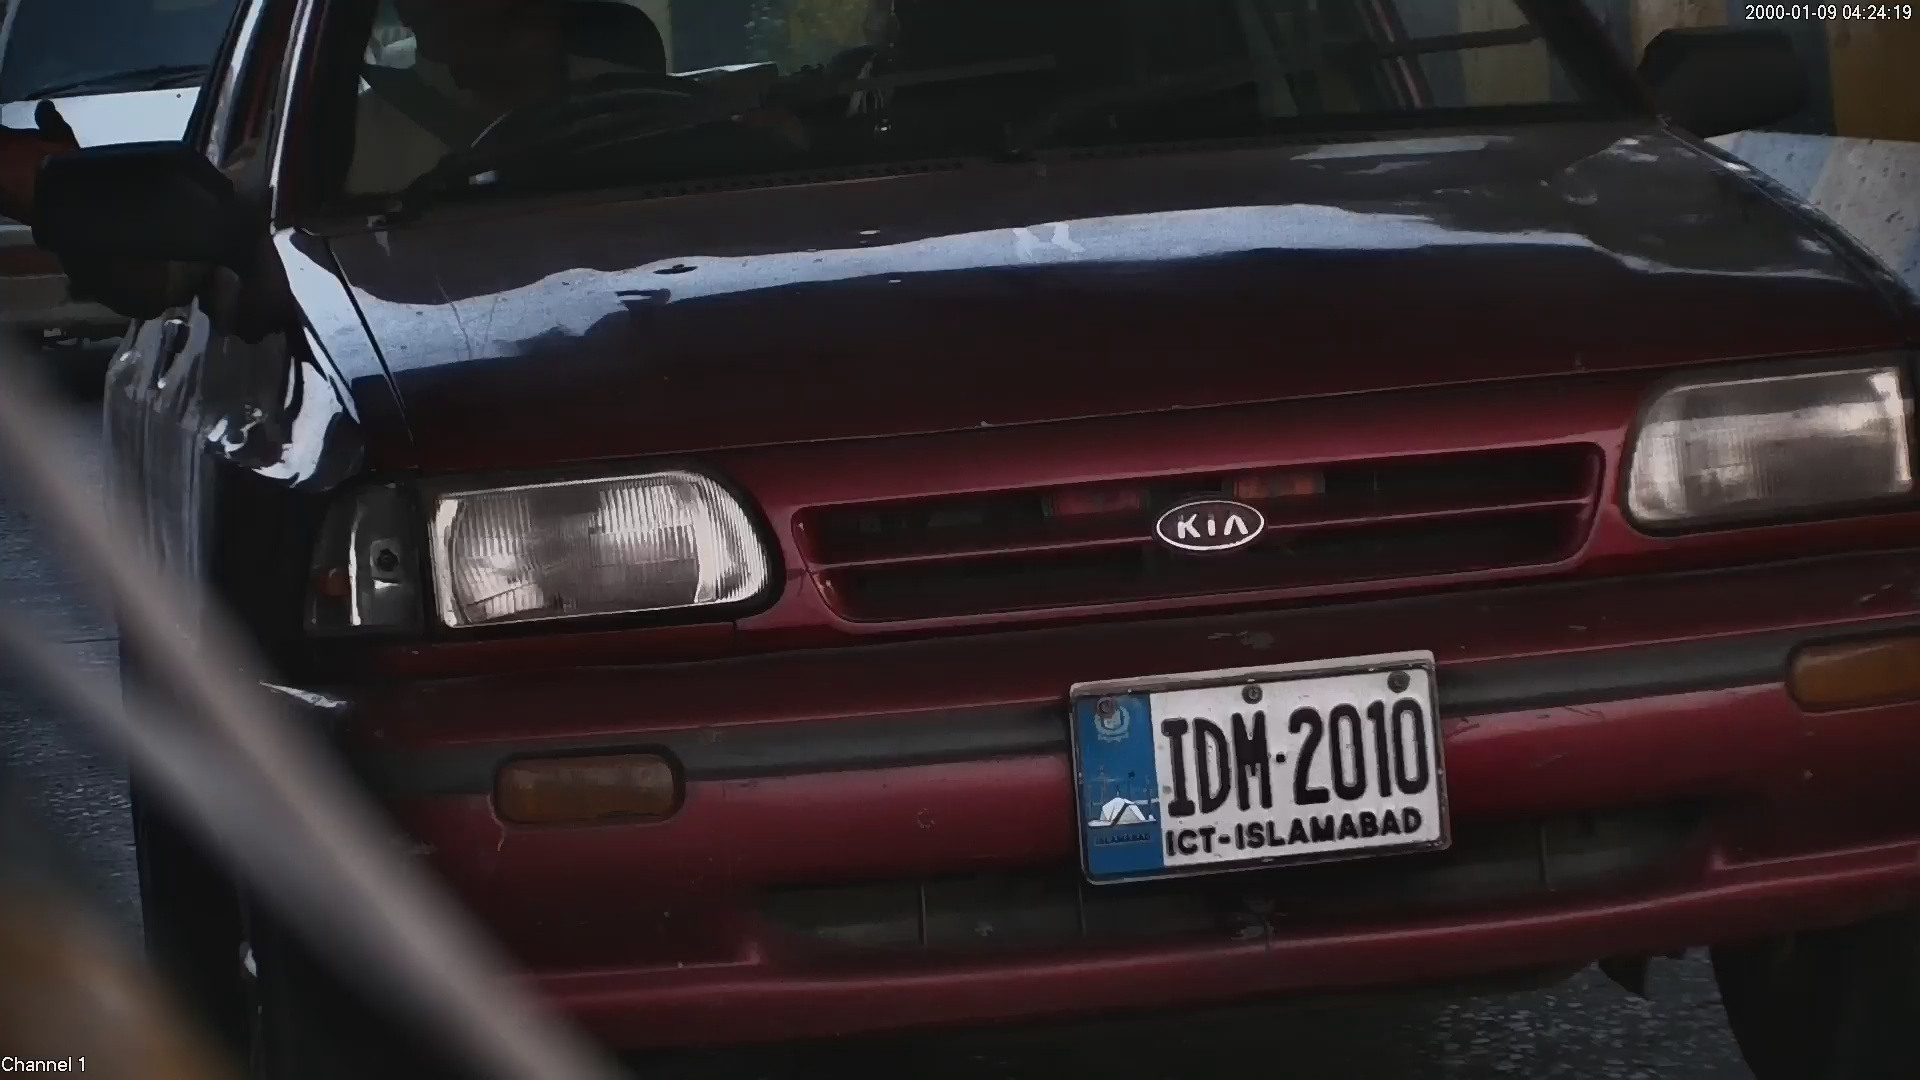Number_Plate: (1045, 638, 1471, 892)
Undefined: (317, 475, 771, 625), (1626, 355, 1895, 523), (480, 740, 687, 825), (1784, 609, 1919, 718), (1139, 499, 1271, 553)
